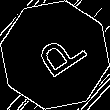P_SW: (24, 25, 86, 85)
